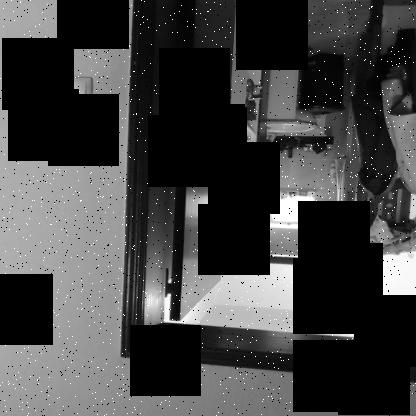Porte: (119, 1, 415, 386), (245, 1, 382, 271)
